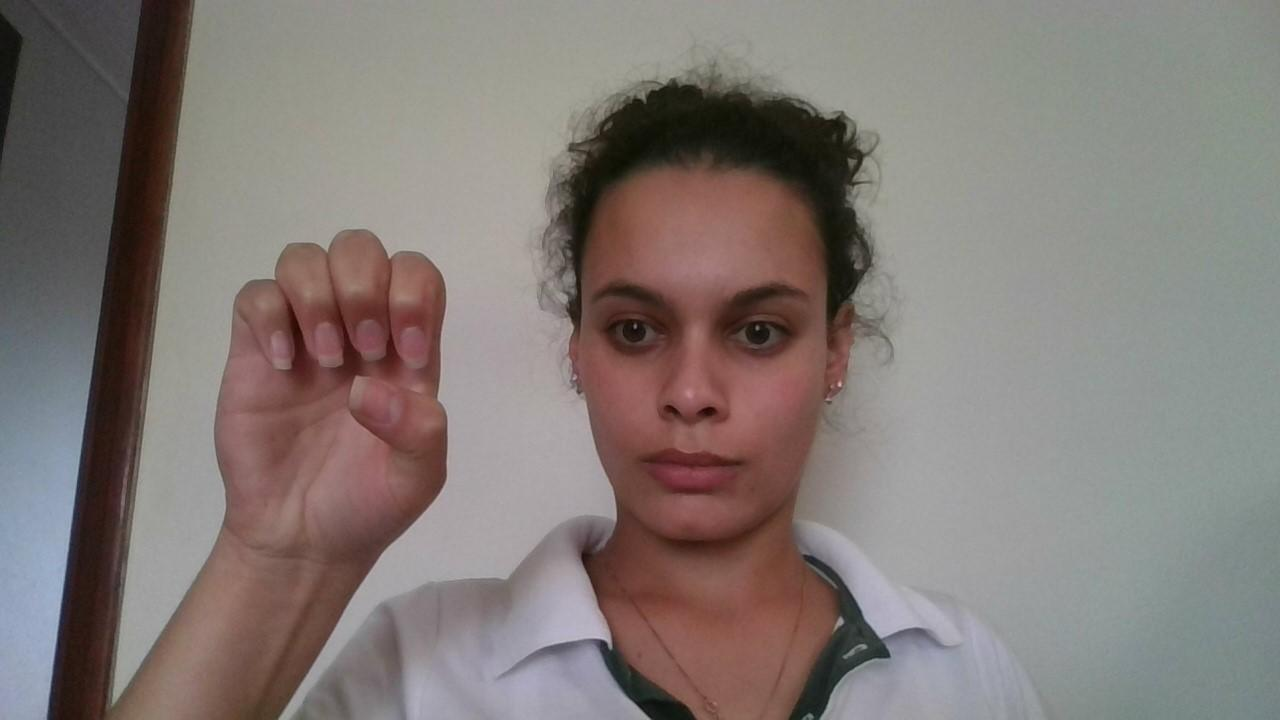E: (202, 226, 452, 544)
